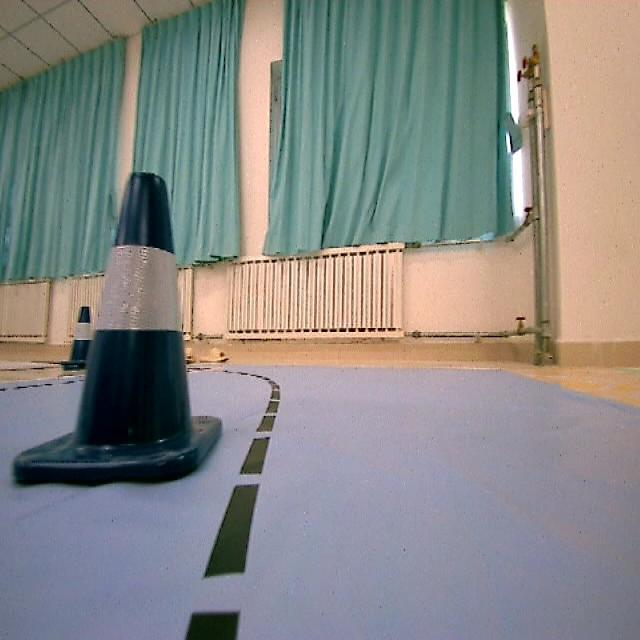obstacle: (0, 165, 231, 500), (64, 289, 97, 372)
